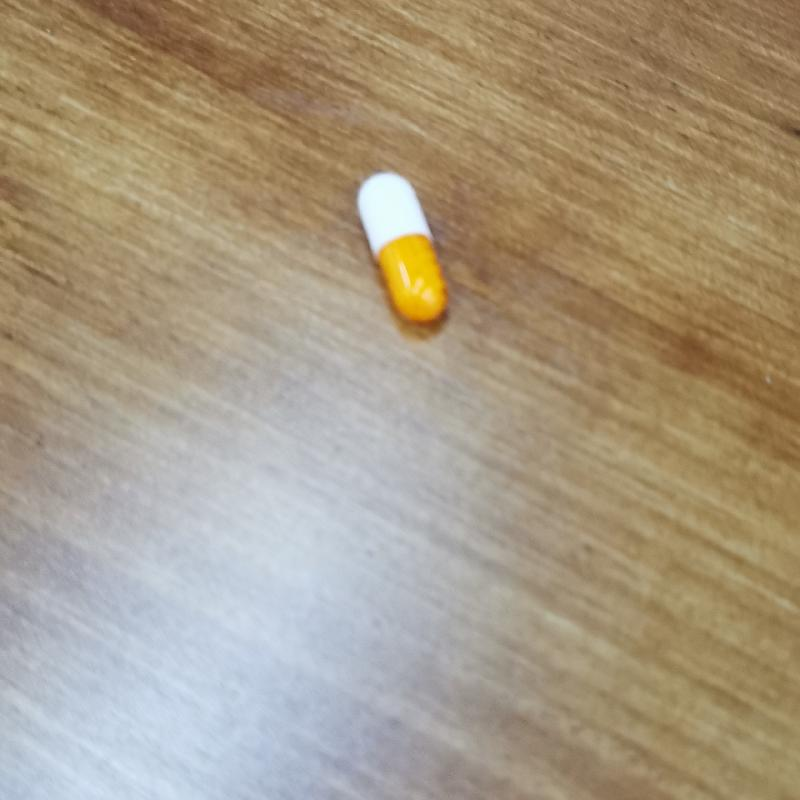pills: (345, 163, 471, 346)
